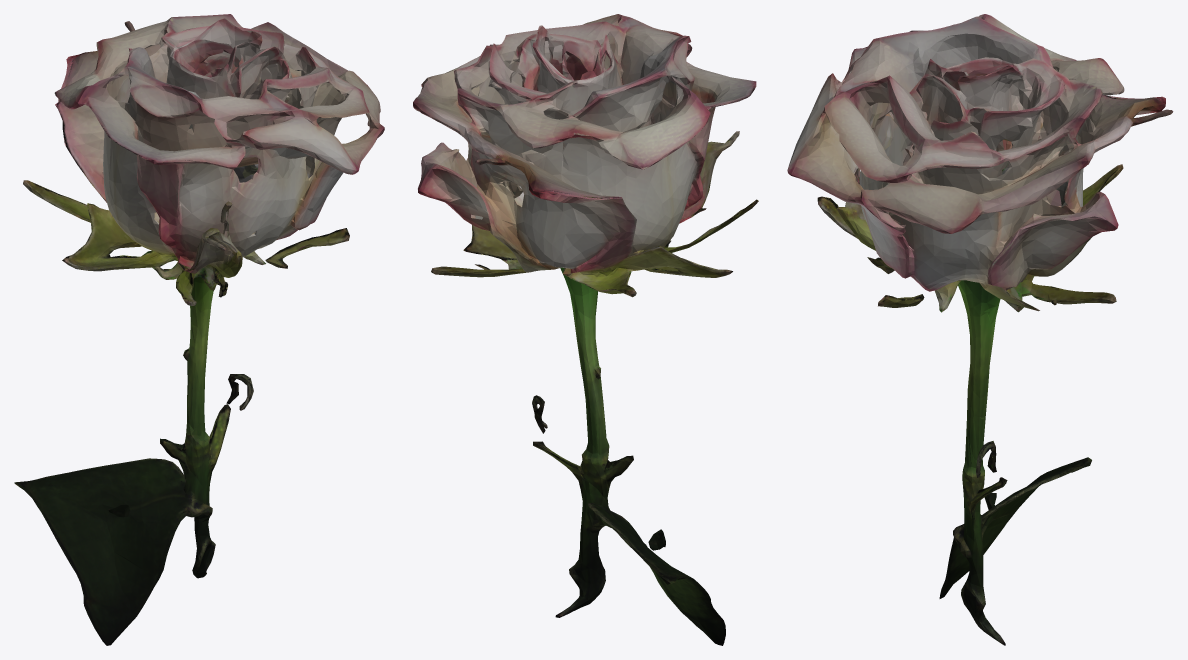
3 views of the same model, side by side, from view 1: azimuth 30°, elevation 25°; view 2: azimuth 150°, elevation 25°; view 3: azimuth 270°, elevation 25° (orthographic). The views are drawn at different scales.
Parts seen in each view (by area): view 1: world; view 2: world; view 3: world.
Part boxes in pixels (<box>): world: <box>14,14,384,645</box>; world: <box>413,14,758,645</box>; world: <box>787,14,1173,645</box>.
Size of the model in its own units: 0.5567 by 0.9932 by 0.5687.
Materials: 1 (1 with a texture image).
